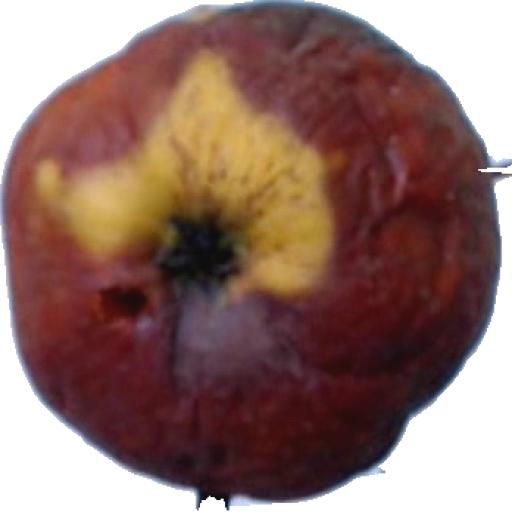apple-overripe: (0, 0, 512, 498)
